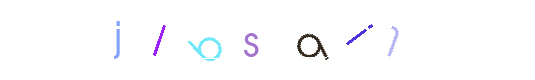1: (318, 0, 398, 80)
B: (197, 0, 277, 80)
I: (271, 0, 351, 80)
J: (119, 0, 199, 80)
L: (166, 0, 246, 80)
Q: (231, 0, 311, 80)
S: (227, 0, 307, 80)
